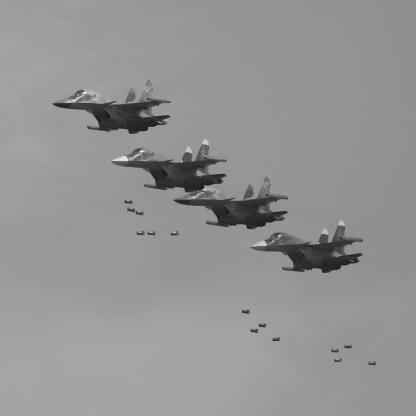Su34: (49, 80, 172, 135), (108, 139, 228, 194), (171, 177, 290, 231), (248, 220, 365, 274)
